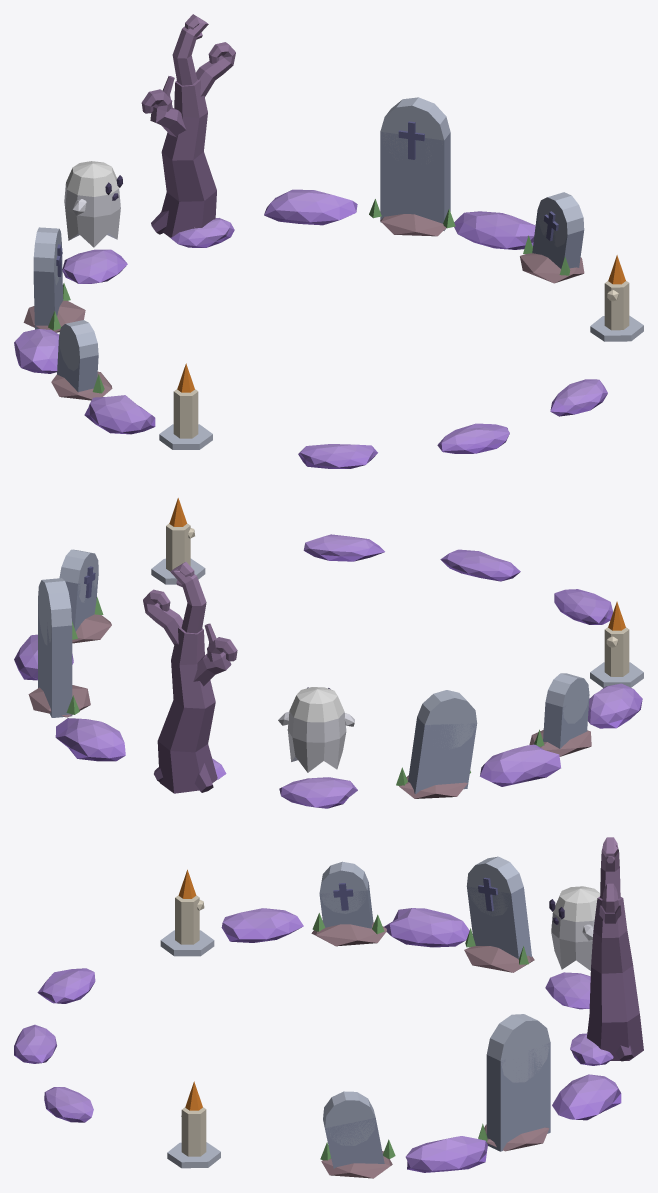
The model's file is habitat_theme_spooky.fbx.
3 renders of one model, top to bottom at view 1: azimuth 30°, elevation 25°; view 2: azimuth 150°, elevation 25°; view 3: azimuth 270°, elevation 25°, orthographic.
Visible parts, largest first — view 1: habitat_theme_spooky; view 2: habitat_theme_spooky; view 3: habitat_theme_spooky.
Boxes of the visible parts, x1,y1,x2,y2 form: habitat_theme_spooky: (14,14,643,468); habitat_theme_spooky: (14,498,643,808); habitat_theme_spooky: (14,837,643,1178).
Bounding box in the file's own units: 7.12 × 2.77 × 7.31.
